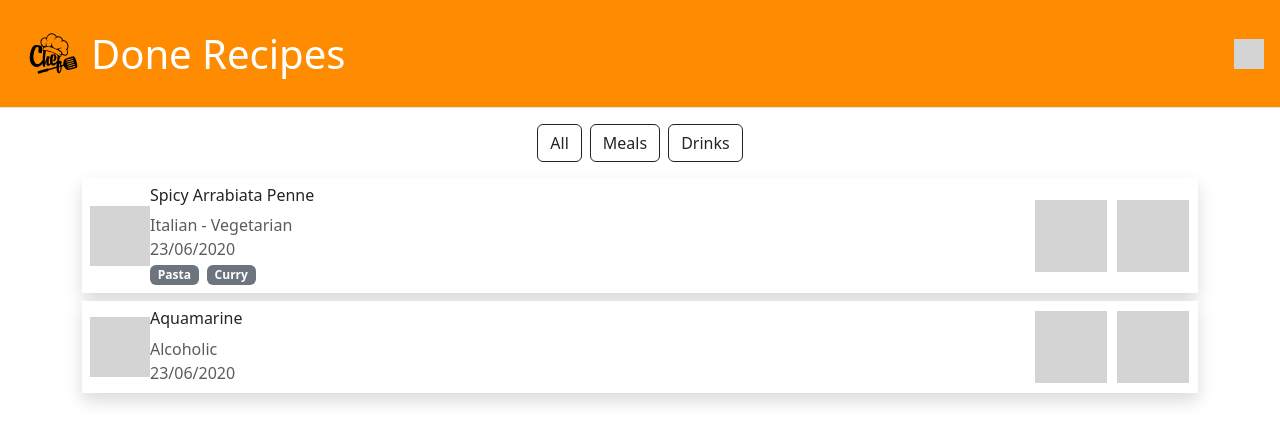
Test case: Testa a pagina DoneRecipes › Ao clicar no botão "Meal", as receitas devem ser filtradas por comidas
The image size is (1280, 423).
Click the button with test id "filter-by-meal-btn": [625, 143] box [590,124,660,162]
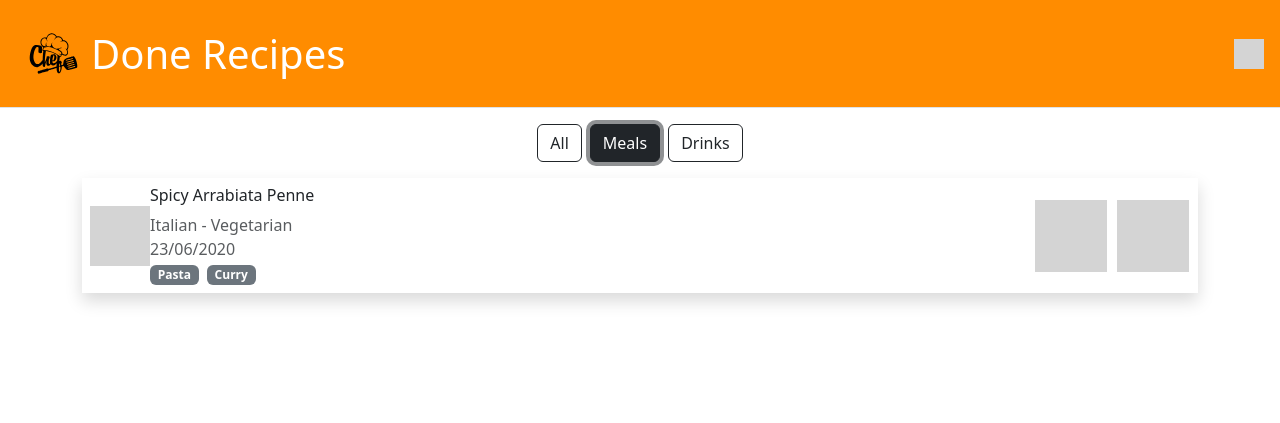
Check: the heading with test id "0-horizontal-name" reads "Spicy Arrabiata Penne", box [150,184,314,206]
Check: the heading with test id "1-horizontal-name" is gone
